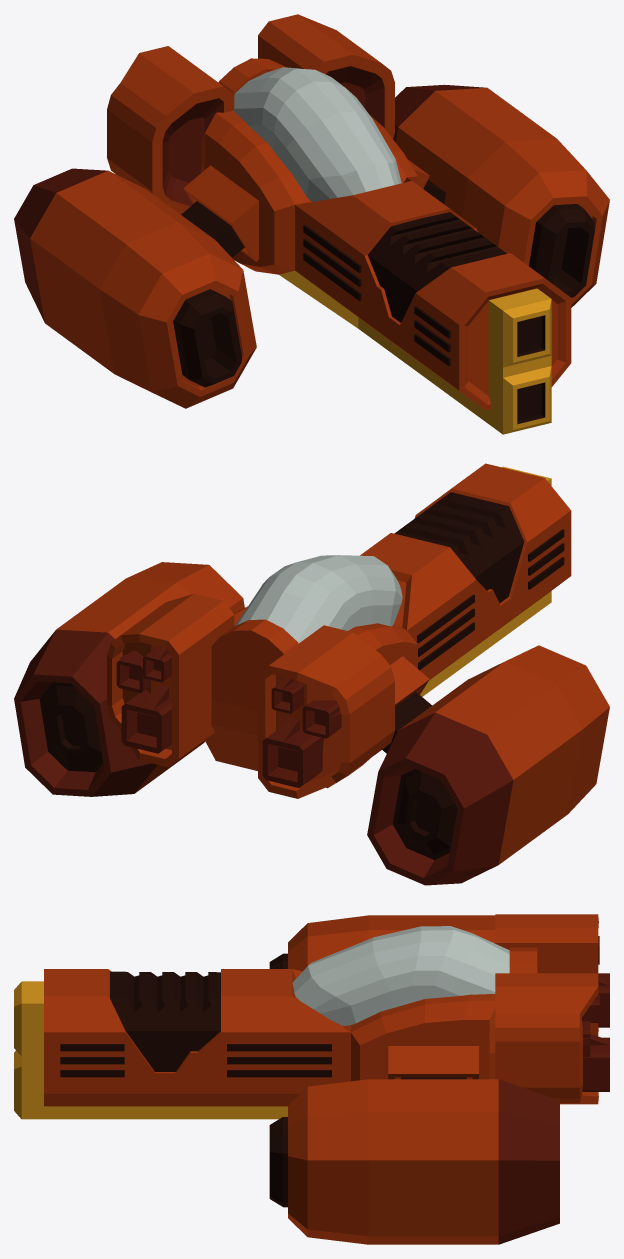
The model's file is Enemie_Ship_Minion_01.fbx.
3 renders of one model, top to bottom at view 1: azimuth 30°, elevation 25°; view 2: azimuth 150°, elevation 25°; view 3: azimuth 270°, elevation 25°, orthographic. The views are drawn at different scales.
Visible parts, largest first — view 1: Enimie Ship Minion 01; view 2: Enimie Ship Minion 01; view 3: Enimie Ship Minion 01.
Boxes of the visible parts, bbox=[...] form: Enimie Ship Minion 01: bbox=[14, 14, 609, 434]; Enimie Ship Minion 01: bbox=[14, 463, 609, 885]; Enimie Ship Minion 01: bbox=[14, 914, 609, 1244].
Bounding box in the file's own units: 264 × 127 × 302.
